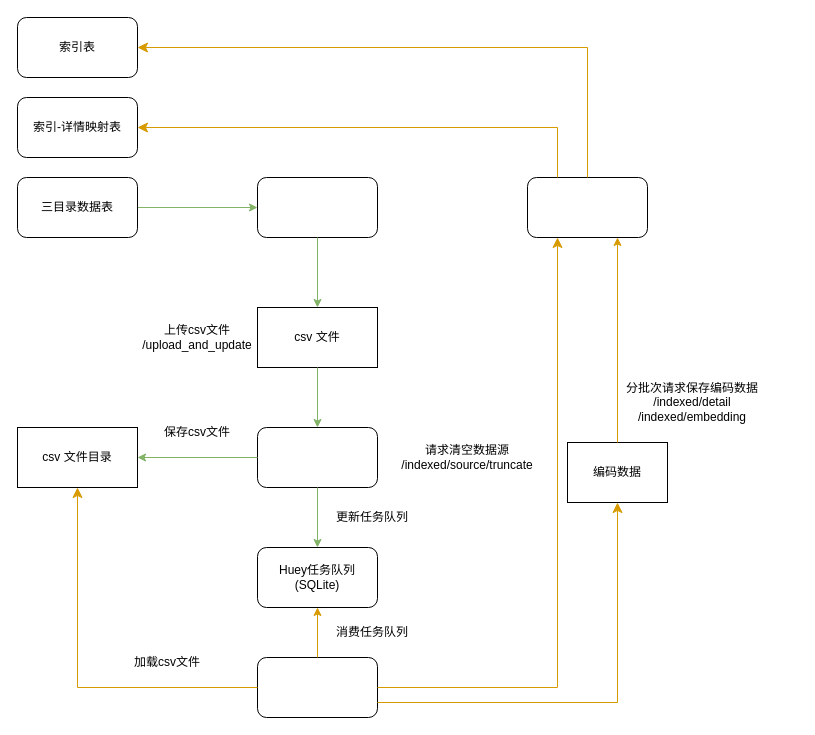
This 815x735 diagram has some shape labels left out. Each missing label, with the centre of its shape:
gs-aligned: point 587,207
gs-push: point 317,207
Huey后台更新服务: point 317,687
python服务: point 317,457
